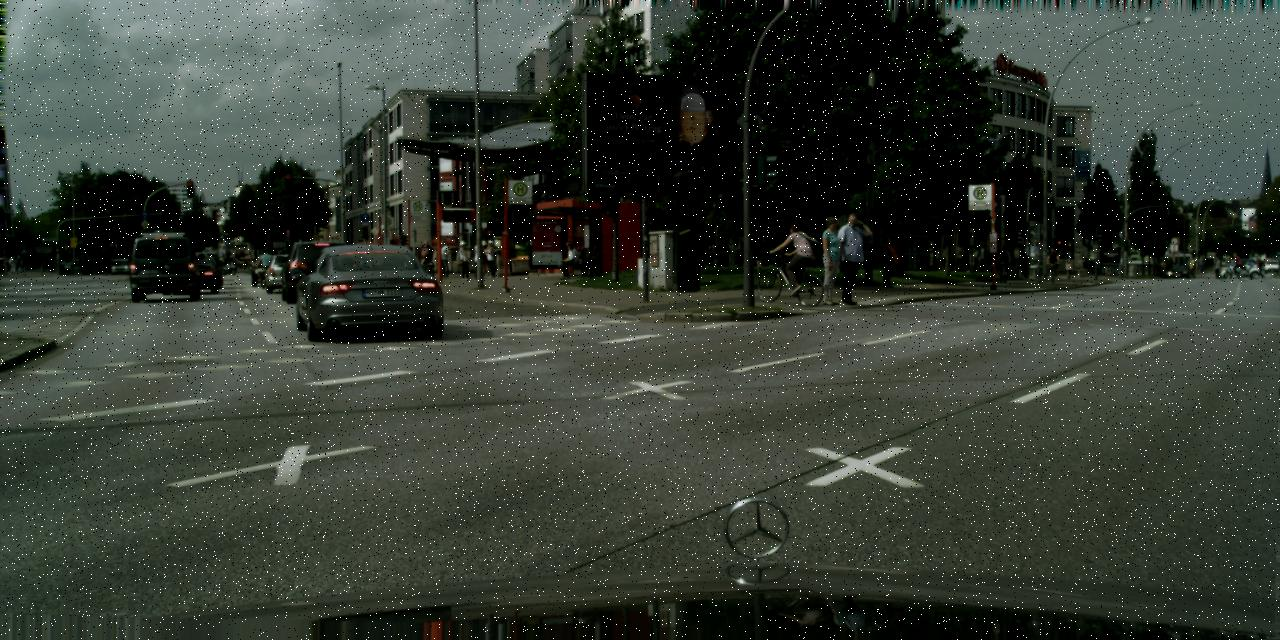ped: (831, 213, 869, 305), (812, 216, 848, 305), (780, 219, 810, 289), (877, 237, 897, 287), (3, 254, 36, 274), (457, 240, 472, 280), (476, 239, 491, 279), (469, 243, 484, 278), (436, 240, 450, 277), (417, 240, 432, 274), (483, 241, 497, 277), (259, 246, 273, 282), (998, 245, 1010, 274), (556, 259, 571, 280), (1047, 247, 1057, 275), (1019, 251, 1029, 277), (1249, 253, 1264, 269), (1128, 247, 1138, 268), (1231, 252, 1240, 274), (1187, 258, 1196, 279), (1212, 256, 1220, 276), (1221, 254, 1233, 266), (1196, 258, 1202, 276), (1083, 258, 1088, 273), (41, 258, 46, 270), (1090, 260, 1094, 274), (49, 259, 53, 270), (1171, 262, 1181, 266), (1260, 273, 1266, 278), (1230, 262, 1234, 268)
